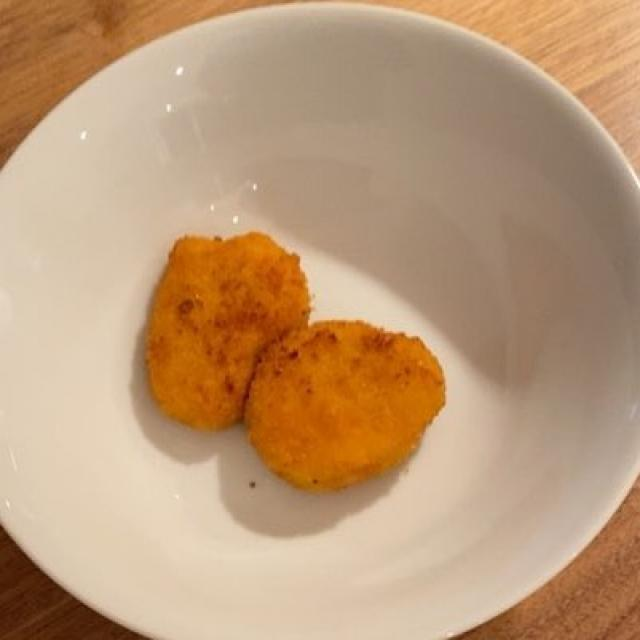chicken: (146, 241, 441, 490)
